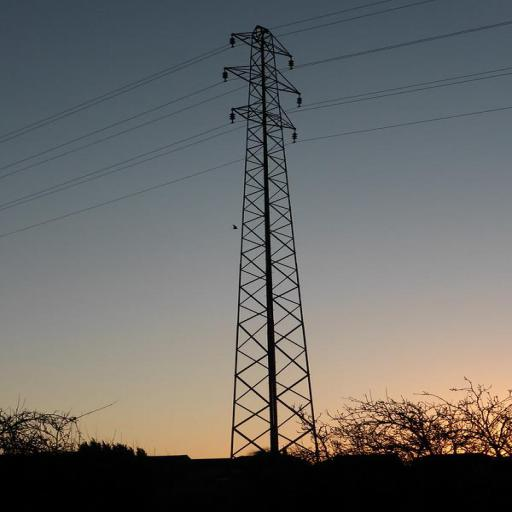ss_3: (219, 26, 325, 468)
